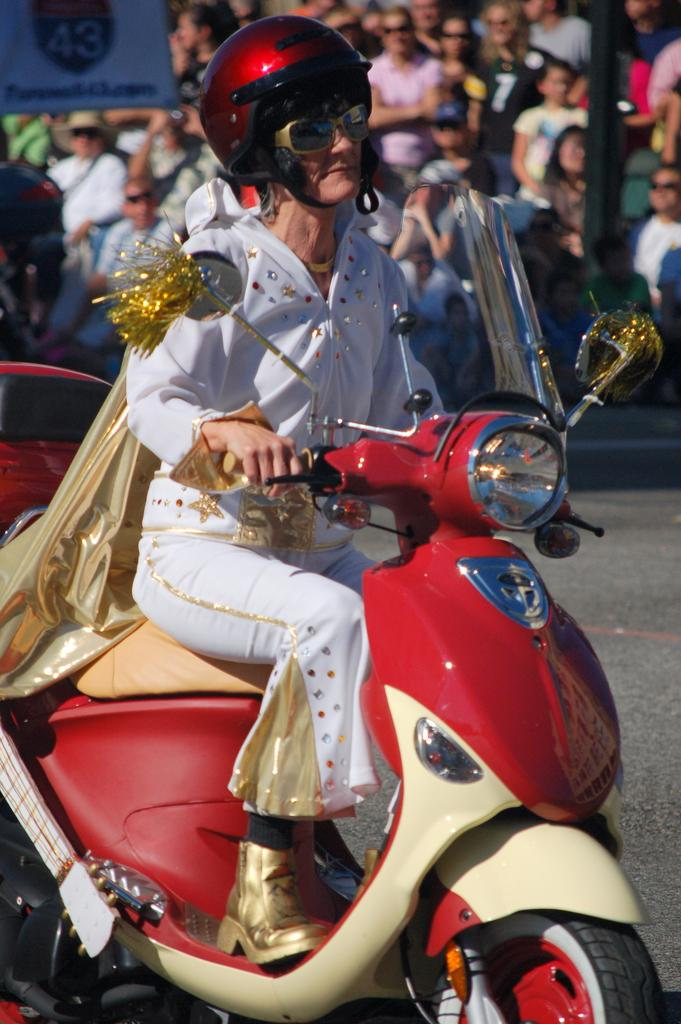helmet: (198, 14, 374, 197)
nohelmet: (51, 110, 119, 159), (534, 58, 581, 105), (482, 0, 527, 49), (378, 6, 417, 57), (552, 123, 588, 176), (123, 175, 161, 225), (438, 11, 474, 62), (647, 162, 681, 216)
